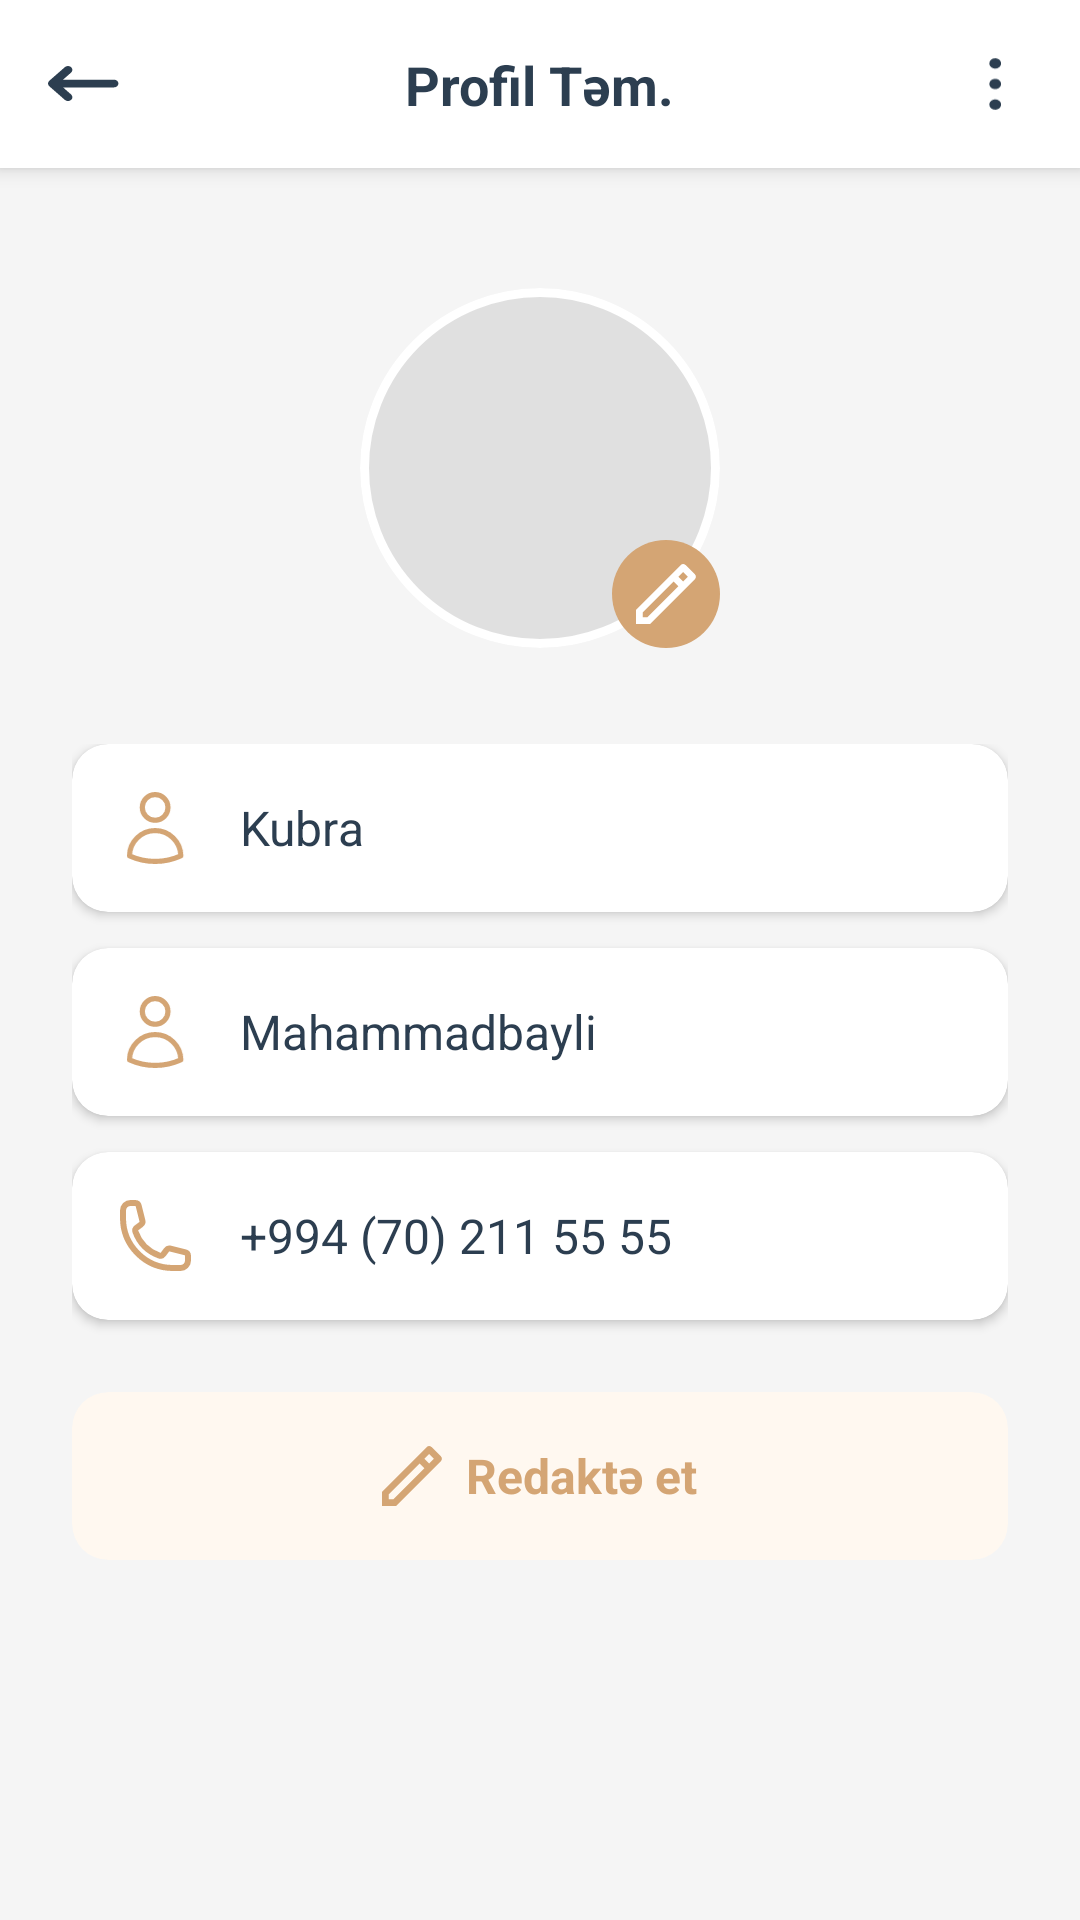

Locate icon controls on the screen. Image size 1080 × 1920, boxes as BBox(x1, y1, x2, y2).
arrow back: BBox(48, 66, 119, 101)
phone: BBox(120, 1200, 191, 1271)
profil: BBox(127, 792, 184, 864), BBox(127, 996, 184, 1068)
